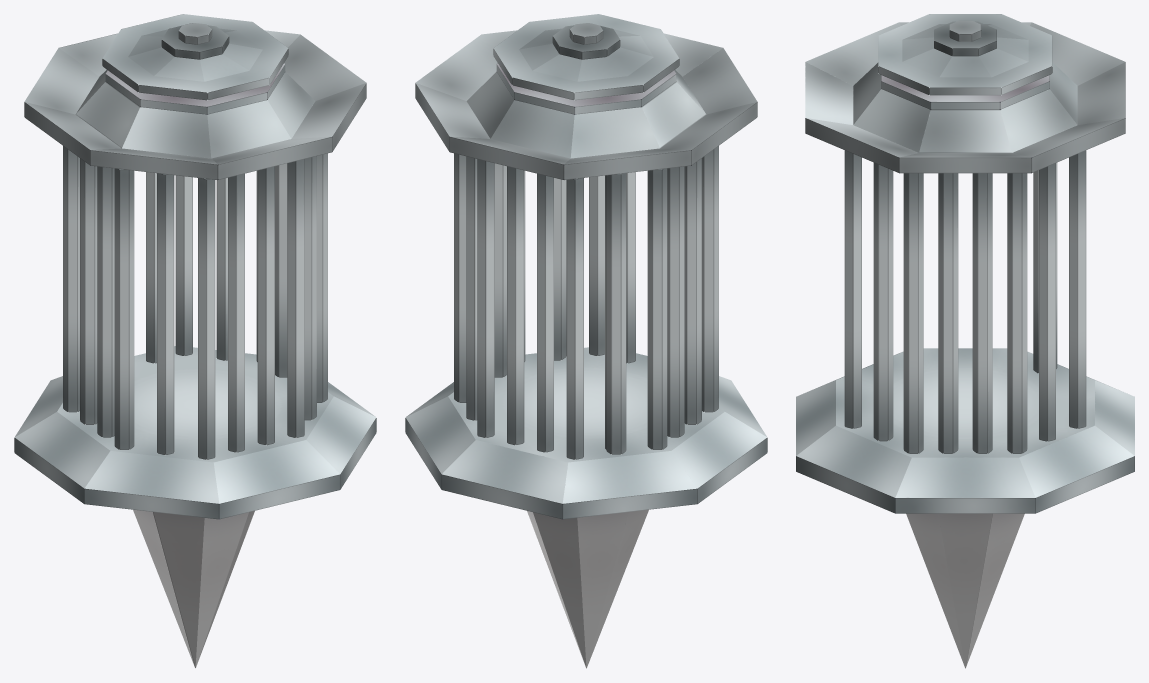
File: cage.fbx
3 views of the same model, side by side, from view 1: azimuth 30°, elevation 25°; view 2: azimuth 150°, elevation 25°; view 3: azimuth 270°, elevation 25° (orthographic).
Parts seen in each view (by area): view 1: cylinder_6, cylinder_1, cylinder, cylinder_16, cylinder_15, cylinder_17, cylinder_18, cylinder_20, cylinder_10, cylinder_13, cylinder_12, cylinder_19 (+1 smaller); view 2: cylinder_6, cylinder_1, cylinder_23, cylinder_18, cylinder_8, cylinder_10, cylinder_9, cylinder_17, cylinder, cylinder_7, cylinder_15, cylinder_16 (+5 smaller); view 3: cylinder_1, cylinder_6, cylinder_11, cylinder_12, cylinder_13, cylinder_14, cylinder_20, cylinder_10, cylinder, cylinder_19, cylinder_22.
Part boxes in pixels (<box>): cylinder_6: <box>24,14,366,179</box>; cylinder_1: <box>14,346,376,667</box>; cylinder: <box>157,159,304,459</box>; cylinder_16: <box>114,168,134,449</box>; cylinder_15: <box>97,166,114,437</box>; cylinder_17: <box>80,158,97,424</box>; cylinder_18: <box>63,146,79,412</box>; cylinder_20: <box>304,156,316,420</box>; cylinder_10: <box>175,175,192,356</box>; cylinder_13: <box>275,163,287,377</box>; cylinder_12: <box>317,153,327,402</box>; cylinder_19: <box>216,178,227,360</box>; cylinder_6: <box>415,14,757,179</box>; cylinder_1: <box>405,347,767,668</box>; cylinder_23: <box>606,173,626,454</box>; cylinder_18: <box>647,168,667,449</box>; cylinder_8: <box>566,178,583,459</box>; cylinder_10: <box>477,159,494,437</box>; cylinder_9: <box>507,166,524,445</box>; cylinder_17: <box>667,166,684,437</box>; cylinder: <box>589,172,635,363</box>; cylinder_7: <box>537,173,553,452</box>; cylinder_15: <box>684,158,701,424</box>; cylinder_16: <box>702,146,718,412</box>; cylinder_1: <box>796,348,1134,668</box>; cylinder_6: <box>805,14,1125,173</box>; cylinder_11: <box>938,173,958,453</box>; cylinder_12: <box>903,173,923,453</box>; cylinder_13: <box>972,173,992,453</box>; cylinder_14: <box>1007,173,1027,453</box>; cylinder_20: <box>873,162,893,441</box>; cylinder_10: <box>1069,150,1086,428</box>; cylinder: <box>844,150,861,428</box>; cylinder_19: <box>1039,163,1055,441</box>; cylinder_22: <box>1033,170,1038,373</box>.
Bounding box in the file's own units: 245 × 512 × 245.
3 materials, 3 textured.
